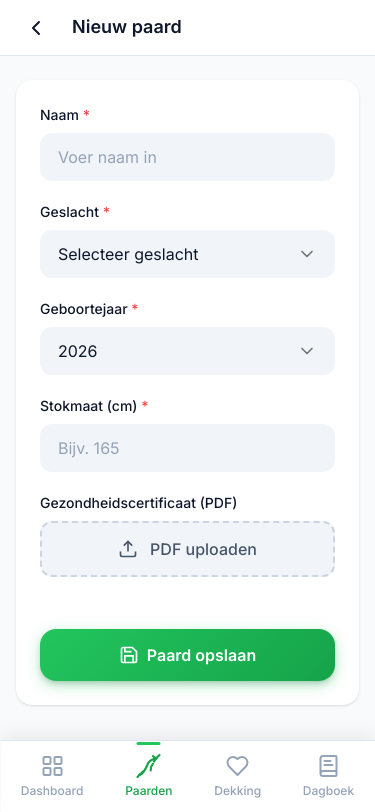
Add Horse Form › Form Submission › should submit form when all fields are valid
Type "Spirit" into the field with id "name".
click(188, 157); type("Spirit")  # box [40,133,335,181]
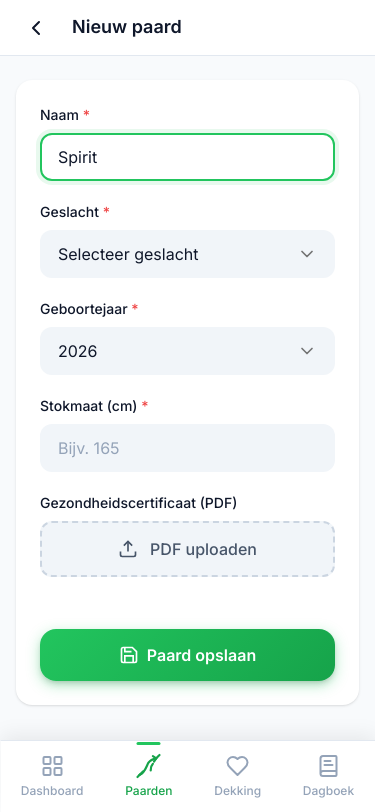
Select "Hengst" in the dropdown with id "sex" at (188,254), box [40,230,335,278]
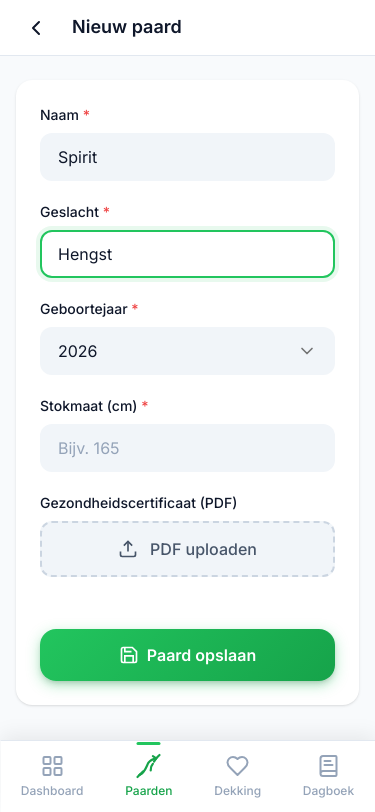
Type "165" into the number field with id "height".
click(188, 448); type("165")  # box [40,424,335,472]
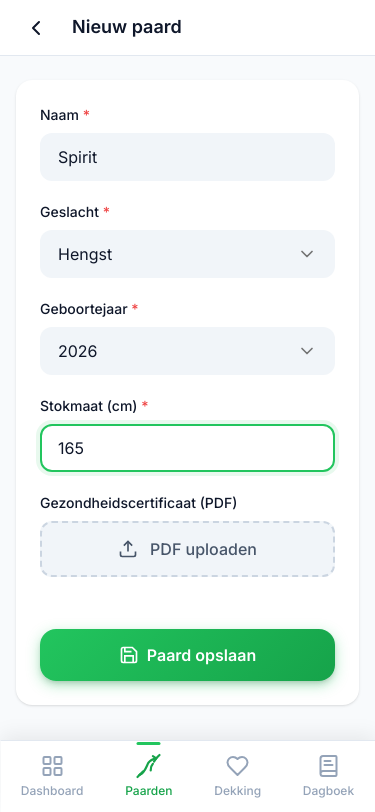
Click the submit button.
click(188, 655)  # box [40,629,335,681]
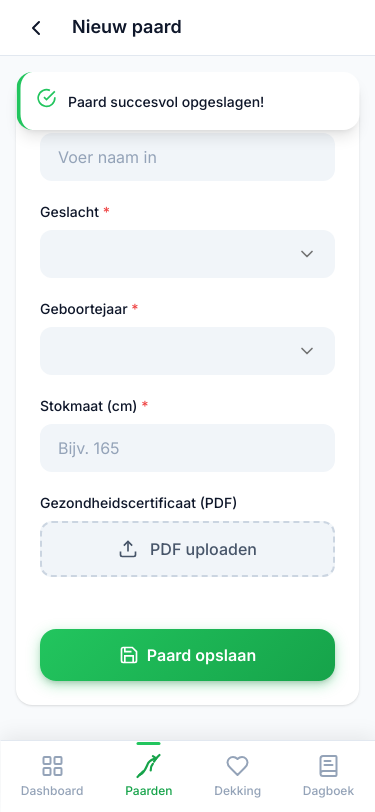
Expected: the text "Paard succesvol opgeslagen" is shown, [68,93,264,110]
